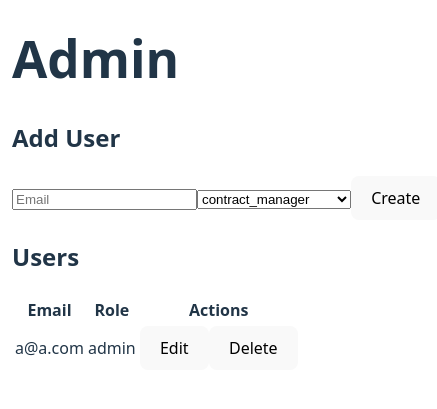
Test: AdminPage delete › optimistically deletes a user and rolls back on error
Expected: the text "a@a.com" is shown, [14, 325, 85, 370]
Click the button "Delete": (253, 348) [209, 326, 298, 370]
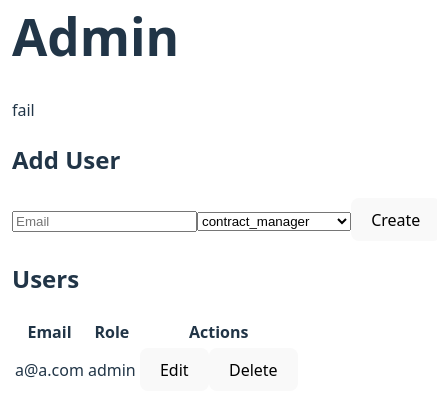
Expected: the text "a@a.com" is shown, [14, 347, 85, 392]
Expected: the text "fail" is shown, [12, 100, 35, 122]
